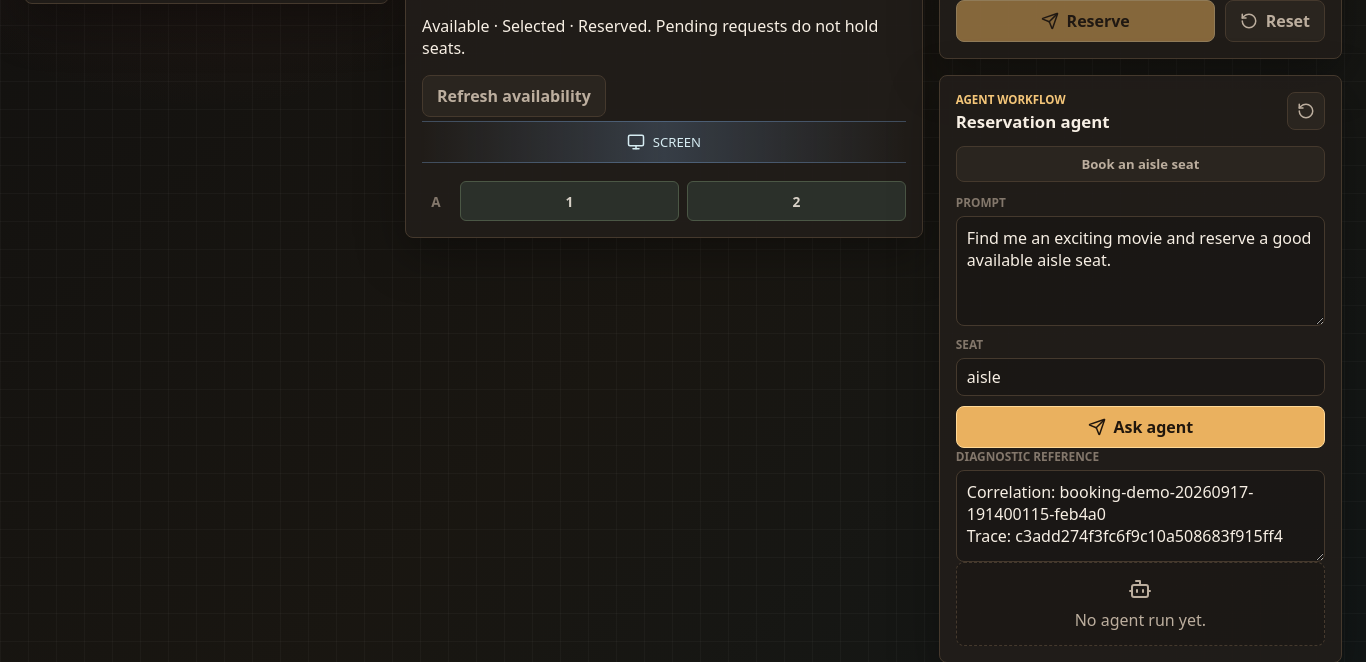
Test case: server-owned booking availability › refreshes agent-confirmed occupancy even if the subsequent catalog reload fails
(page scrolled)
Expected: the button named "Seat A1 — Available" is shown, x1=460 y1=181 x2=679 y2=221
Click the button "Ask agent" at (1140, 427), box x1=956 y1=406 x2=1325 y2=448
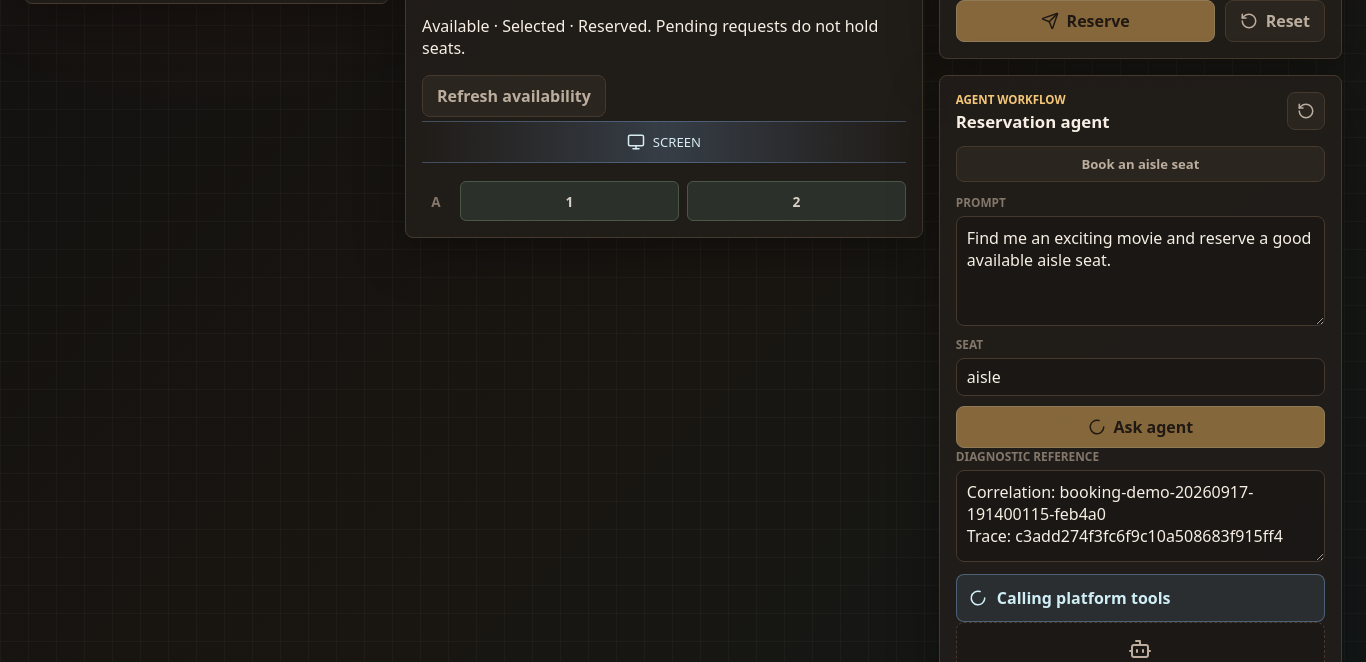
Click the button named "Start a new agent workflow" at (1306, 111), box x1=1287 y1=92 x2=1325 y2=130
(page scrolled)
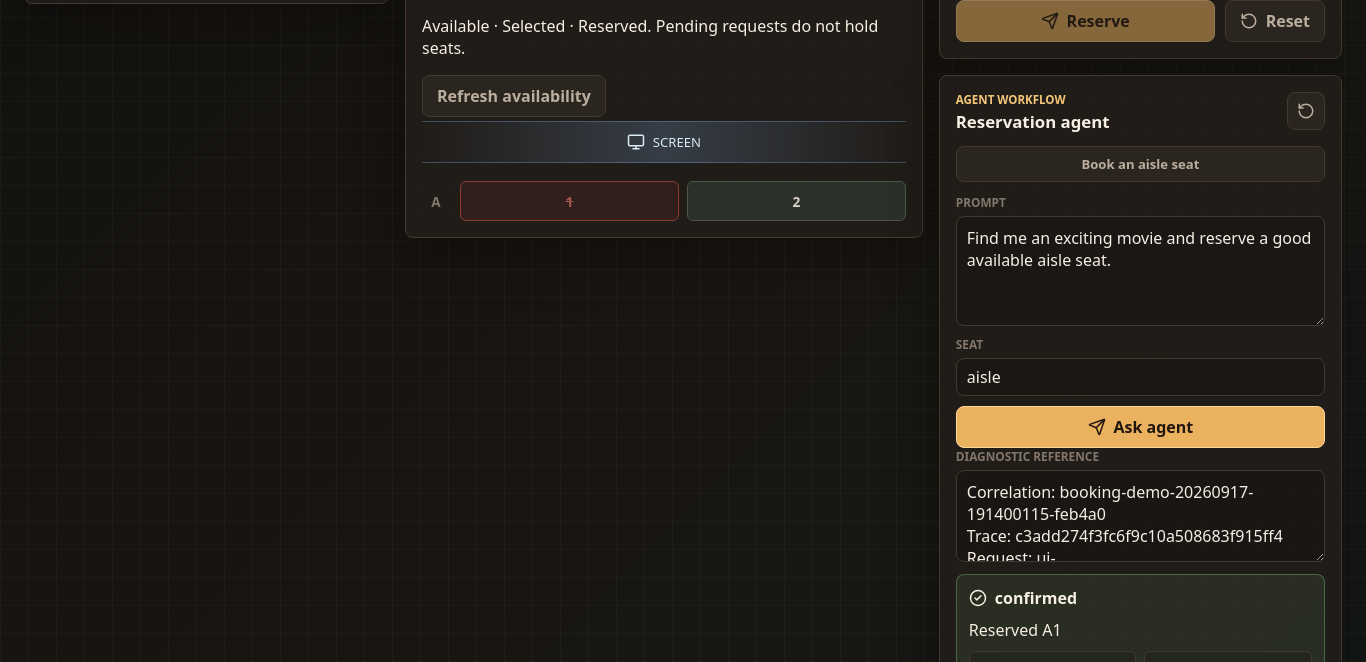
Now the button named "Seat A1 — Reserved" is disabled, box x1=460 y1=181 x2=679 y2=221
